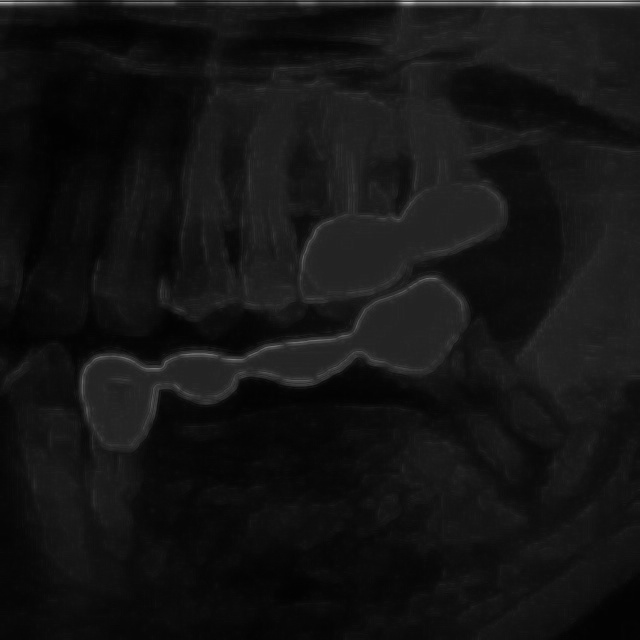Class 2- incomplete endodontic treatment: (326, 286, 610, 560), (387, 67, 528, 276), (281, 98, 406, 304)
cavity: (63, 348, 179, 584)
